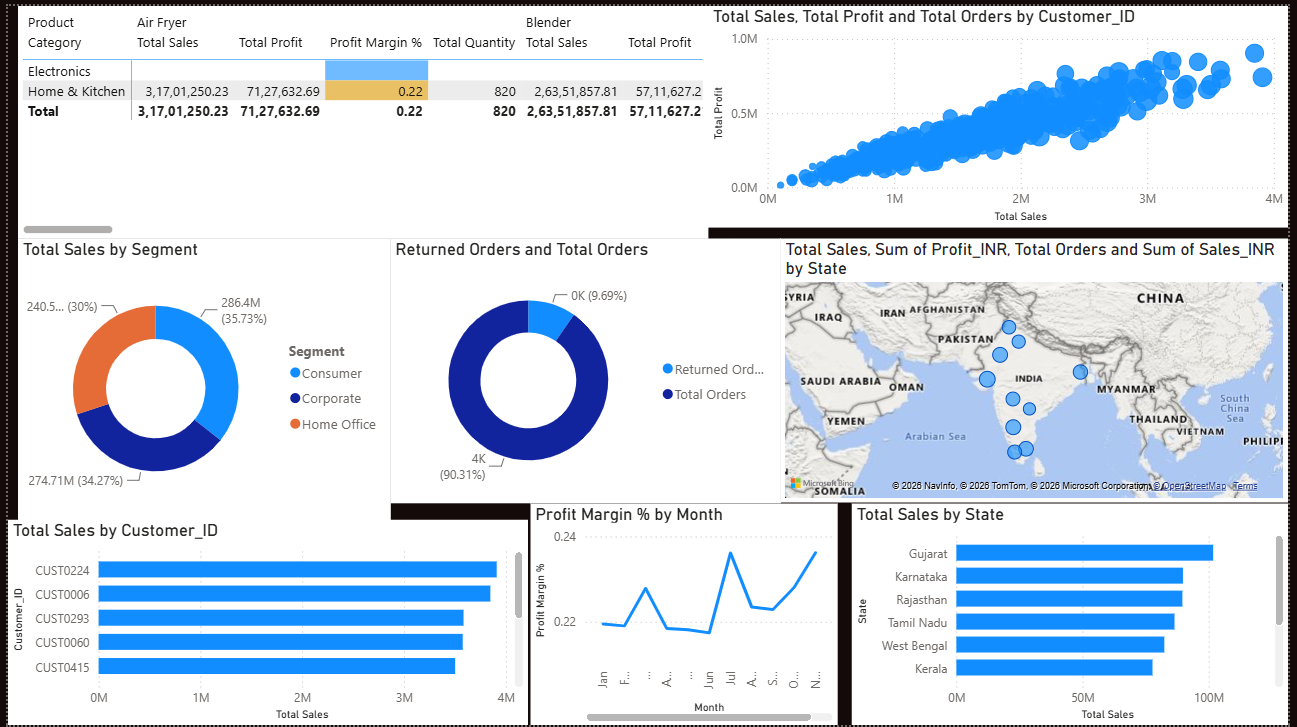

Layout of this report page (visuals, bound fields, positions):
{"tool":"powerbi","page":{"name":"Page 2","canvas":[1280,720],"ordinal":1},"visuals":[{"type":"pivotTable","fields":{"Columns":["retail_sales_data (1).Product"],"Rows":["retail_sales_data (1).Category"],"Values":["DateTable.Total Sales","DateTable.Total Profit","DateTable.Profit Margin %","DateTable.Total Quantity"]},"box":[10,0,690,232.9],"z":0},{"type":"donutChart","fields":{"Category":["retail_sales_data (1).Segment"],"Y":["DateTable.Total Sales"]},"box":[10,232.9,372.9,281.4],"z":1000},{"type":"barChart","fields":{"Category":["retail_sales_data (1).Customer_ID"],"Y":["DateTable.Total Sales"]},"box":[0,513.8,520,206.2],"z":2000},{"type":"scatterChart","fields":{"Category":["retail_sales_data (1).Customer_ID"],"Size":["DateTable.Total Orders"],"X":["DateTable.Total Sales"],"Y":["DateTable.Total Profit"]},"box":[700,0,580,221.4],"z":3000},{"type":"map","fields":{"Category":["retail_sales_data (1).State"],"Size":["DateTable.Total Sales"]},"box":[772.9,232.9,507.1,264.3],"z":4000},{"type":"barChart","fields":{"Category":["retail_sales_data (1).State"],"Y":["DateTable.Total Sales"]},"box":[843.8,497.7,436.6,222.6],"z":5000},{"type":"donutChart","fields":{"Y":["DateTable.Returned Orders","DateTable.Total Orders"]},"box":[382.5,232.5,390,265],"z":6000},{"type":"lineChart","fields":{"Category":["DateTable.Month"],"Y":["DateTable.Profit Margin %"]},"box":[522.9,497.1,307.1,222.9],"z":7000}]}

Visuals, with their boxes in screenshot pixels (x1, y1, x2, y2), scaled from the page's 1280x720 canvas onto the 1297x727 screenshot:
pivotTable - retail_sales_data (1).Product x retail_sales_data (1).Category: (left=10, top=0, right=709, bottom=235)
donutChart - retail_sales_data (1).Segment x DateTable.Total Sales: (left=10, top=235, right=388, bottom=519)
barChart - retail_sales_data (1).Customer_ID x DateTable.Total Sales: (left=0, top=519, right=527, bottom=726)
scatterChart - retail_sales_data (1).Customer_ID x DateTable.Total Orders: (left=709, top=0, right=1296, bottom=224)
map - retail_sales_data (1).State x DateTable.Total Sales: (left=783, top=235, right=1296, bottom=502)
barChart - retail_sales_data (1).State x DateTable.Total Sales: (left=855, top=503, right=1296, bottom=726)
donutChart - DateTable.Returned Orders x DateTable.Total Orders: (left=388, top=235, right=783, bottom=502)
lineChart - DateTable.Month x DateTable.Profit Margin %: (left=530, top=502, right=841, bottom=726)
